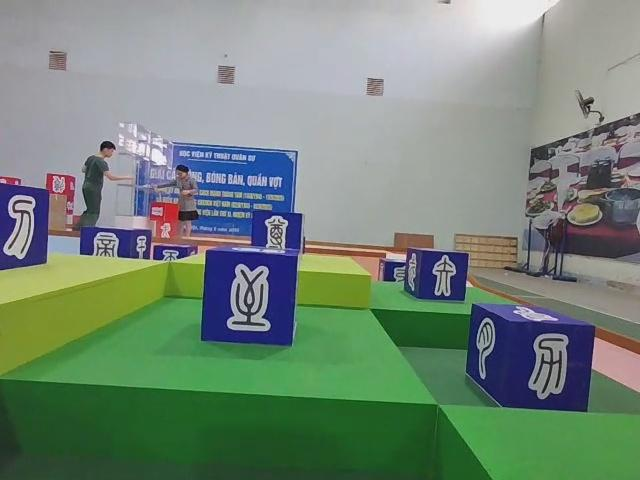R2 Fake Blue: (468, 306, 597, 416), (202, 244, 303, 347), (0, 182, 48, 274), (404, 248, 468, 303), (251, 209, 305, 256), (82, 228, 153, 262), (375, 258, 405, 283)
